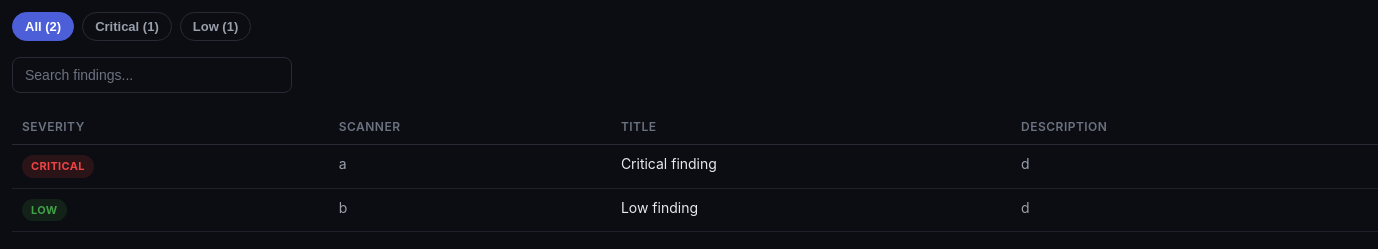
Scenario: filtering by severity tab shows only matching findings
Click the button "Critical (1)" at (127, 26), box [82,12,172,41]
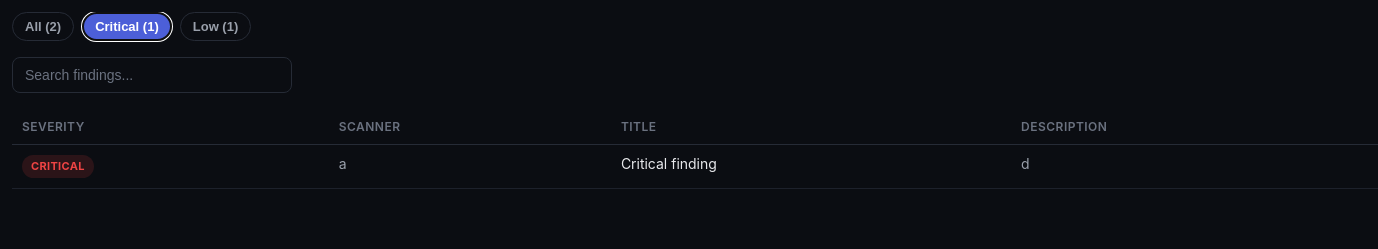
Expected: the text "Critical finding" is shown, [611,144,1011,188]
Now the text "Low finding" is gone
